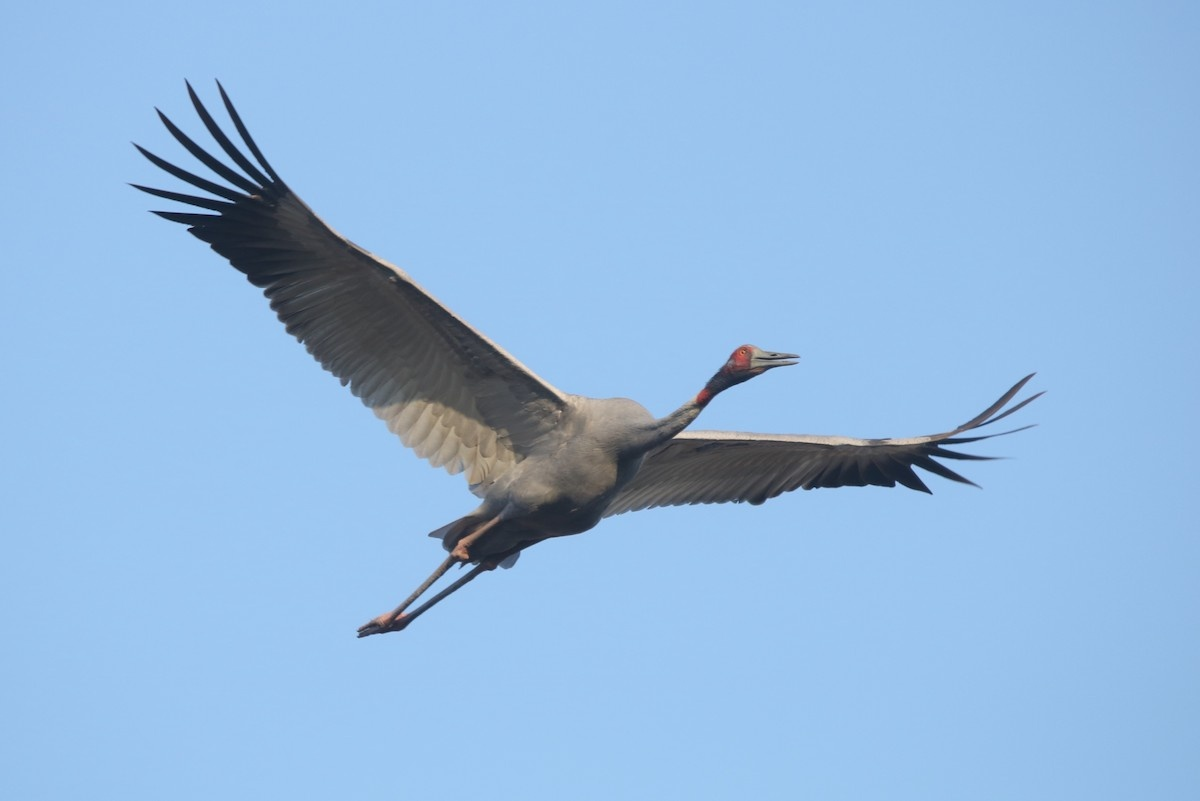crane: (120, 66, 1088, 657)
